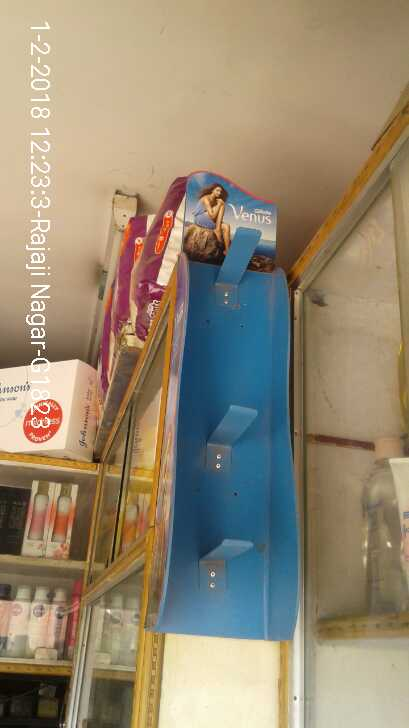reject: (127, 279, 264, 472)
